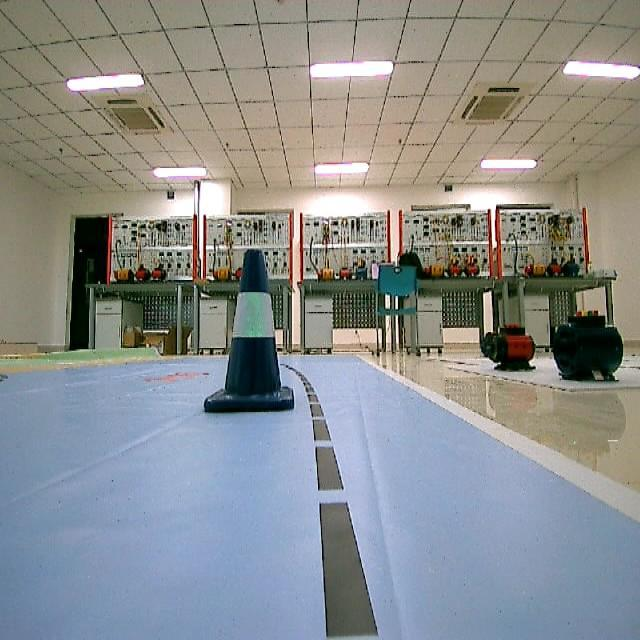obstacle: (188, 247, 296, 413)
